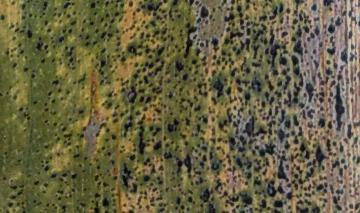tarspot: (332, 82, 346, 130), (313, 141, 328, 169), (276, 155, 291, 183), (183, 24, 196, 56), (118, 161, 133, 188), (211, 75, 225, 100), (135, 123, 146, 153), (238, 188, 254, 207), (257, 142, 276, 158), (303, 81, 316, 104), (292, 38, 306, 56), (264, 180, 278, 198), (289, 54, 301, 75), (184, 151, 194, 174), (227, 27, 243, 41), (172, 58, 186, 73), (164, 118, 180, 131), (171, 155, 183, 172), (199, 186, 211, 203), (276, 125, 288, 142), (271, 195, 285, 209), (197, 4, 210, 19), (324, 44, 339, 57), (208, 34, 221, 48), (24, 26, 36, 41), (127, 43, 139, 57), (290, 112, 301, 127), (99, 195, 111, 208), (223, 11, 235, 24), (308, 1, 320, 14), (313, 180, 326, 192), (315, 116, 326, 129), (278, 54, 288, 68), (228, 134, 238, 148), (326, 22, 336, 35), (156, 44, 165, 58), (161, 150, 172, 161), (140, 173, 151, 184), (258, 195, 268, 207), (153, 138, 162, 151), (127, 151, 137, 162), (228, 66, 238, 77), (279, 29, 289, 40), (181, 69, 189, 82), (242, 91, 252, 101), (285, 190, 293, 201)
